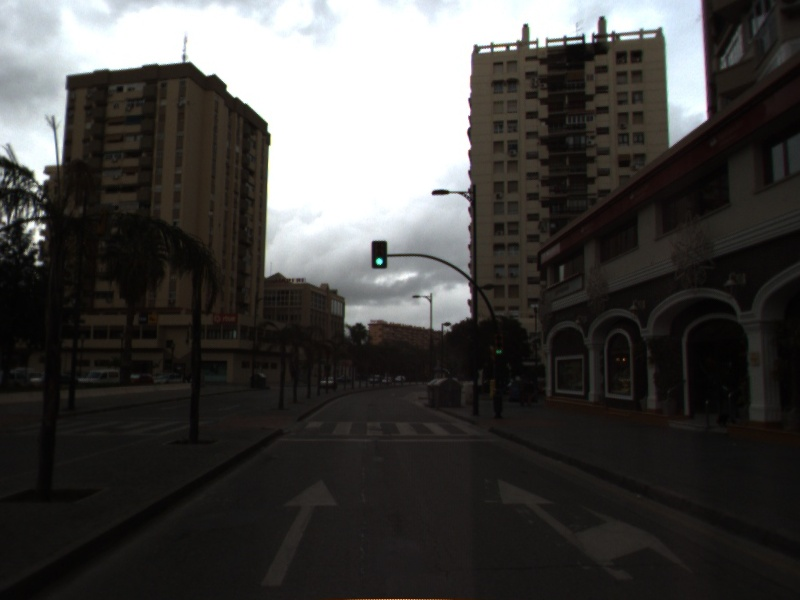STRAIGHT: (258, 475, 342, 589)
STRAIGHT_RIGHT: (495, 477, 697, 581)
